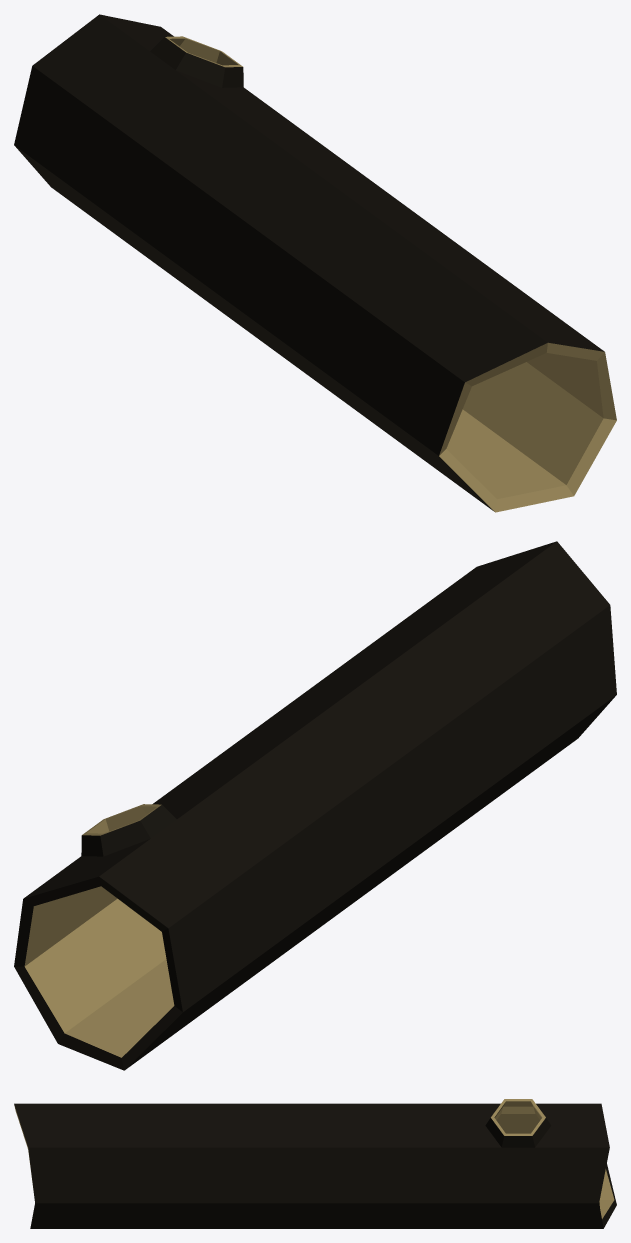
File: HollowLog.fbx
3 views of the same model, one above another, from view 1: azimuth 30°, elevation 25°; view 2: azimuth 150°, elevation 25°; view 3: azimuth 270°, elevation 25° (orthographic). The views are drawn at different scales.
Visible parts, largest first — view 1: HollowLog; view 2: HollowLog; view 3: HollowLog.
Boxes of the visible parts, x1=… form: HollowLog: x1=14, y1=14, x2=616, y2=512; HollowLog: x1=14, y1=541, x2=616, y2=1070; HollowLog: x1=14, y1=1099, x2=616, y2=1228.
Size of the model in its own units: 77.99 by 81.93 by 368.
